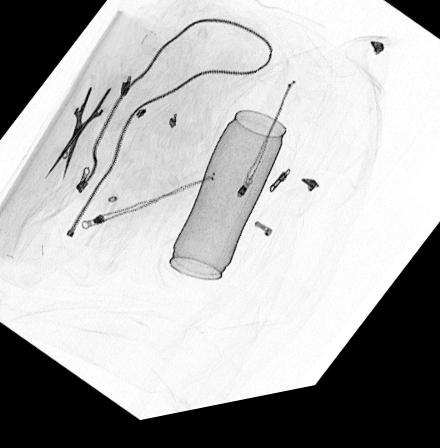Scissors: (42, 84, 115, 190)
